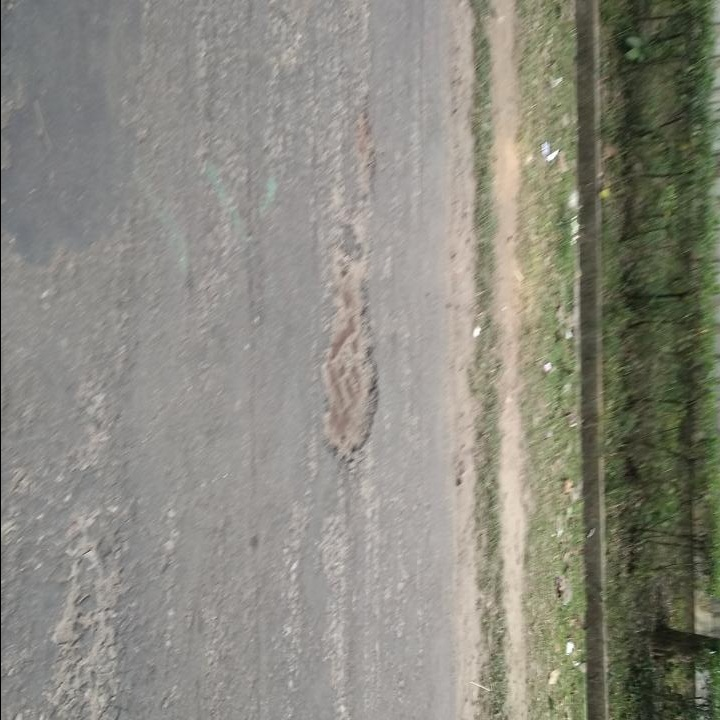pothole: (311, 240, 382, 461)
